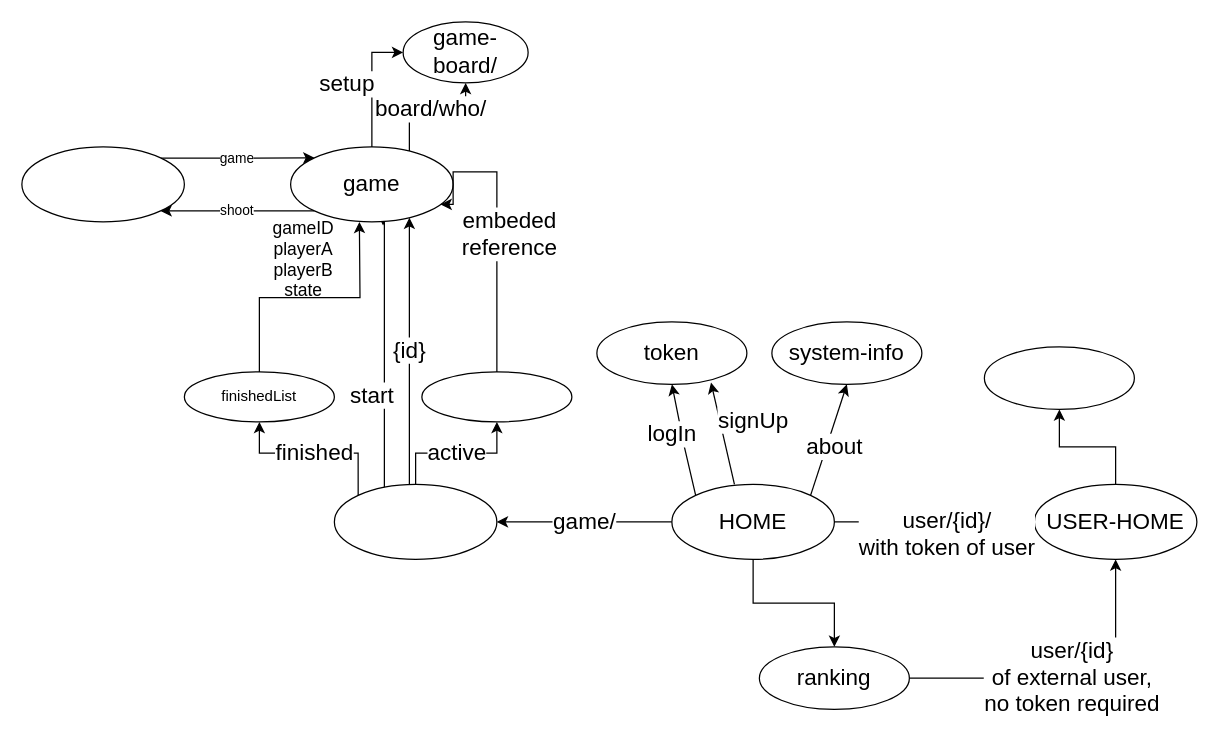
The diagram is 1219 pixels wide and 740 high, and some of its shapes have lost their labels. The shapes that lost their labels are listed below. From the top down, each one's centre as x and y in pixels, then its label:
At [102,184]: "shot-result".
At [496,396]: "activeList".
At [1058,377]: "profile-picture".
At [415,521]: "GAMES-HOME".
